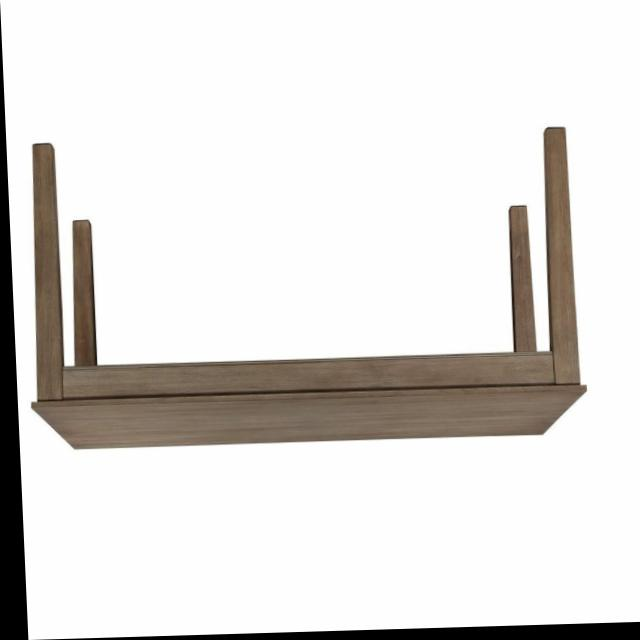Table: (4, 96, 601, 476)
